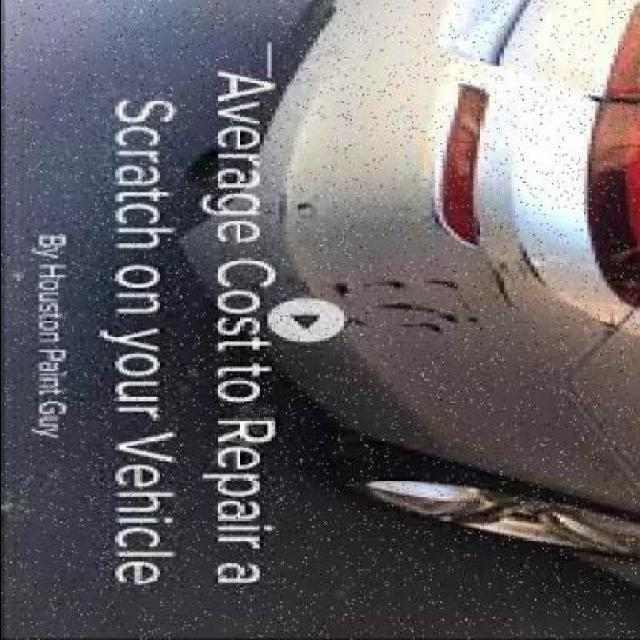rear-bumper-dent: (179, 0, 636, 446)
